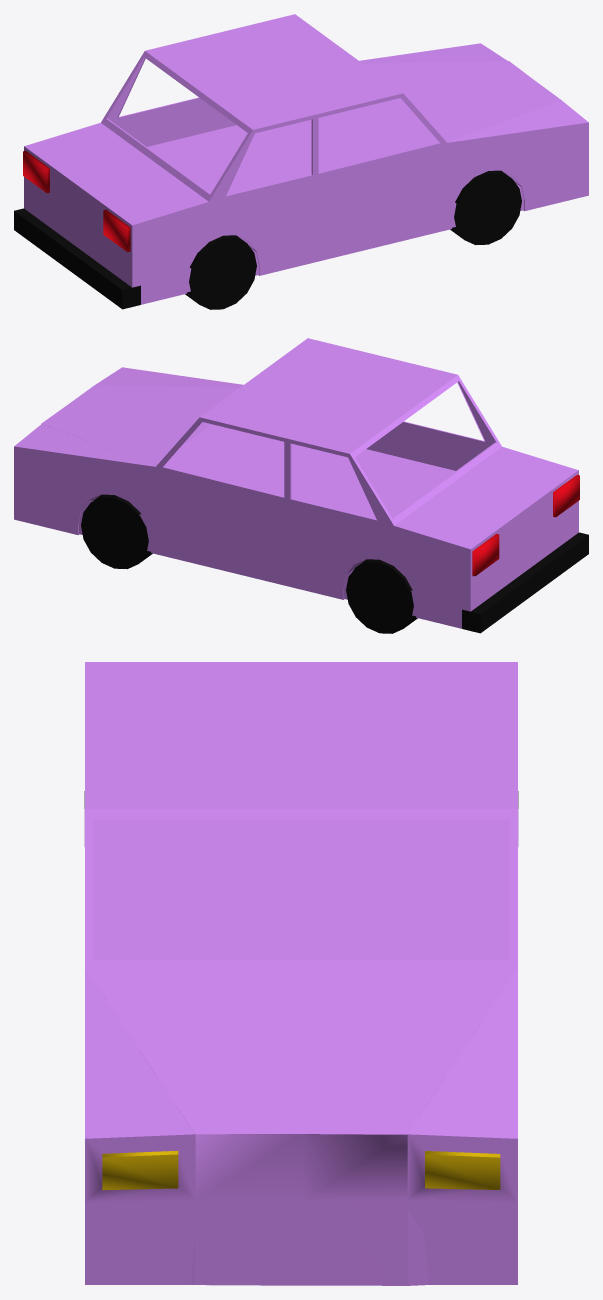
File: Default Car2.fbx
The picture shows the model from 3 angles, top to bottom: view 1: azimuth 30°, elevation 25°; view 2: azimuth 150°, elevation 25°; view 3: azimuth 270°, elevation 25°; orthographic projection. The views are drawn at different scales.
Visible parts, largest first — view 1: Vehicle_Car; view 2: Vehicle_Car; view 3: Vehicle_Car.
Boxes of the visible parts, <box> form: Vehicle_Car: <box>14,14,588,309</box>; Vehicle_Car: <box>14,338,588,633</box>; Vehicle_Car: <box>84,662,518,1285</box>.
Bounding box in the file's own units: 628 × 220 × 251.
